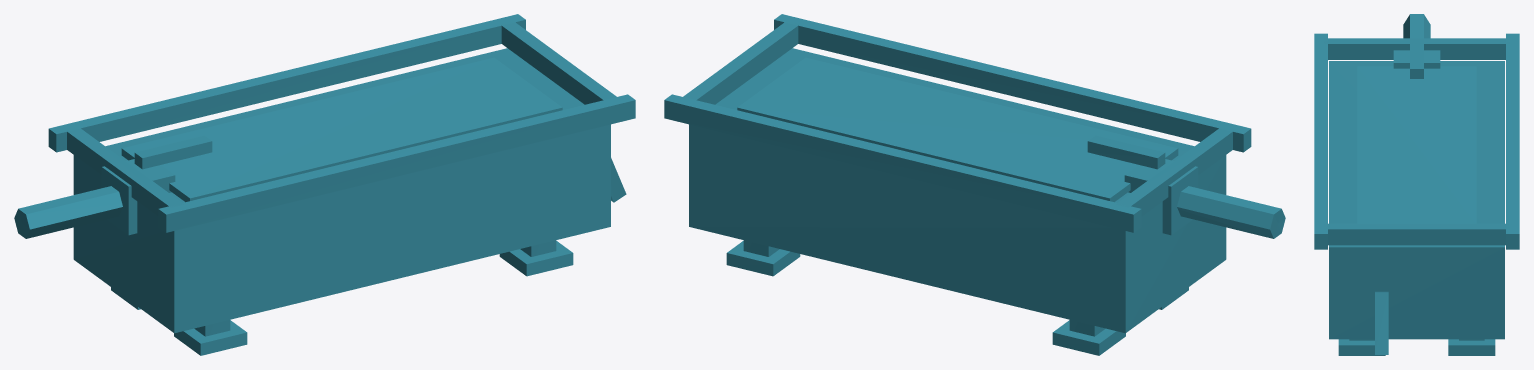
Rendered from Water-Trough.glb.
3 views of the same model, side by side, from view 1: azimuth 30°, elevation 25°; view 2: azimuth 150°, elevation 25°; view 3: azimuth 270°, elevation 25° (orthographic). The views are drawn at different scales.
Visible parts, largest first — view 1: wind-pump-static-water-trough-sealed-basin, wind-pump-static-water-trough-reinforced-rim, wind-pump-static-water-trough-still-blue-water, wind-pump-static-water-trough-dark-service; view 2: wind-pump-static-water-trough-sealed-basin, wind-pump-static-water-trough-reinforced-rim, wind-pump-static-water-trough-still-blue-water, wind-pump-static-water-trough-dark-service; view 3: wind-pump-static-water-trough-sealed-basin, wind-pump-static-water-trough-still-blue-water, wind-pump-static-water-trough-reinforced-rim, wind-pump-static-water-trough-dark-service.
Part boxes in pixels (x1=…): wind-pump-static-water-trough-sealed-basin: x1=73, y1=48, x2=610, y2=333; wind-pump-static-water-trough-reinforced-rim: x1=48, y1=14, x2=635, y2=355; wind-pump-static-water-trough-still-blue-water: x1=121, y1=57, x2=562, y2=202; wind-pump-static-water-trough-dark-service: x1=14, y1=135, x2=626, y2=336; wind-pump-static-water-trough-sealed-basin: x1=689, y1=48, x2=1226, y2=333; wind-pump-static-water-trough-reinforced-rim: x1=664, y1=14, x2=1251, y2=355; wind-pump-static-water-trough-still-blue-water: x1=737, y1=57, x2=1178, y2=202; wind-pump-static-water-trough-dark-service: x1=743, y1=135, x2=1285, y2=336; wind-pump-static-water-trough-sealed-basin: x1=1329, y1=61, x2=1504, y2=339; wind-pump-static-water-trough-still-blue-water: x1=1357, y1=66, x2=1476, y2=223; wind-pump-static-water-trough-reinforced-rim: x1=1314, y1=33, x2=1519, y2=355; wind-pump-static-water-trough-dark-service: x1=1349, y1=14, x2=1484, y2=354.
Bounding box in the file's own units: 2.99 × 0.8475 × 1.05.
